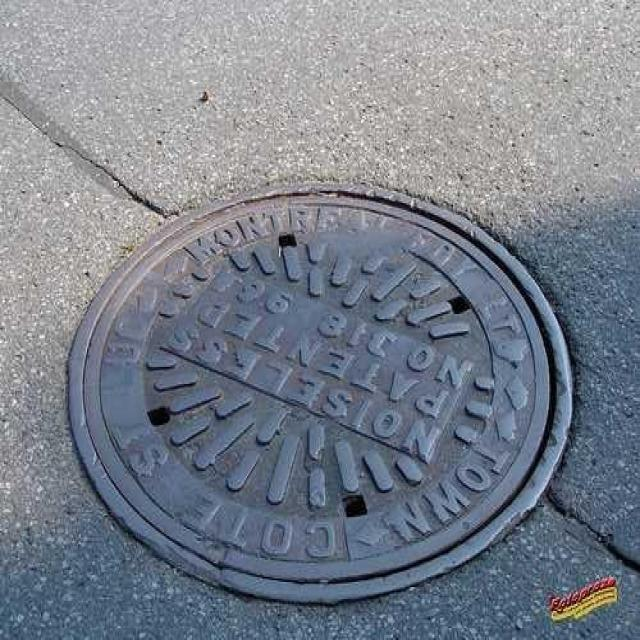manhole: (69, 187, 573, 601)
